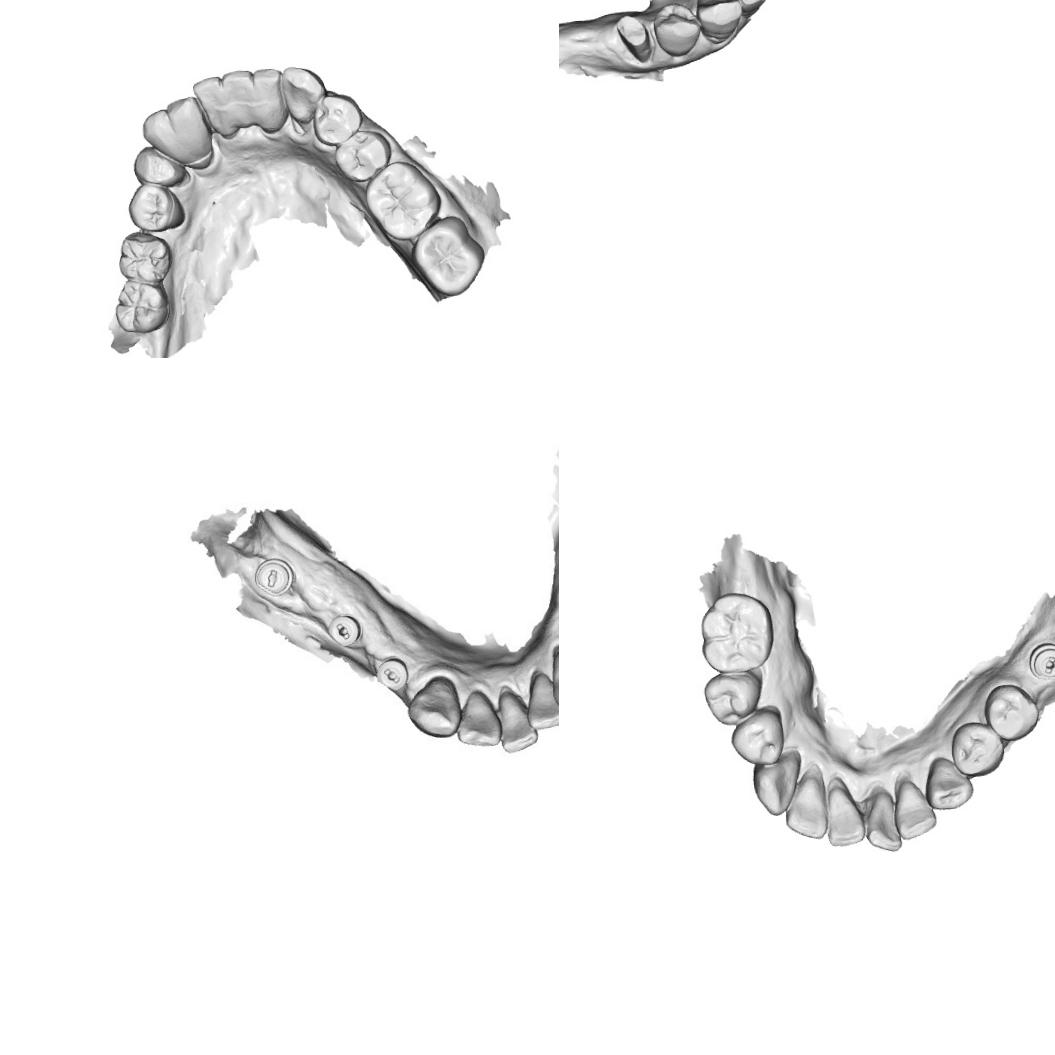canine: (404, 674, 462, 740), (276, 64, 329, 126), (922, 754, 972, 812), (138, 106, 182, 161), (694, 0, 741, 45)
crown: (612, 12, 654, 66)
implant_minus: (253, 555, 298, 600), (374, 654, 413, 692), (324, 612, 362, 650), (1028, 641, 1055, 679)
incisor: (753, 752, 800, 820), (784, 774, 832, 840), (163, 94, 215, 152), (454, 689, 503, 749), (497, 688, 540, 756), (190, 74, 233, 138), (863, 789, 905, 854), (826, 784, 865, 850), (896, 780, 938, 841), (251, 66, 287, 133), (218, 68, 258, 126), (525, 671, 559, 732), (724, 0, 766, 18)
molar: (362, 158, 444, 244), (410, 212, 488, 298), (697, 590, 775, 676), (116, 230, 175, 288), (112, 280, 171, 336)
premolar: (701, 671, 764, 730), (982, 682, 1041, 742), (331, 128, 394, 184), (729, 710, 787, 769), (948, 720, 1005, 778), (126, 181, 186, 233), (652, 1, 704, 58), (310, 92, 364, 146), (132, 143, 188, 189)
